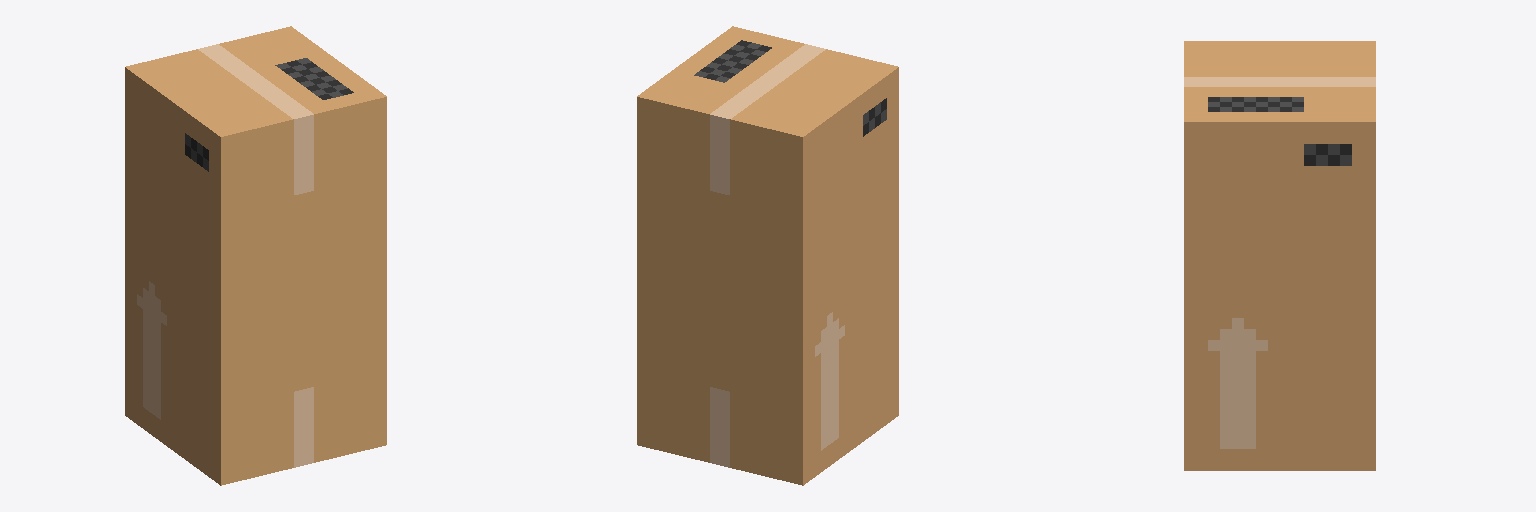
The picture shows the model from 3 angles: view 1: azimuth 30°, elevation 25°; view 2: azimuth 150°, elevation 25°; view 3: azimuth 270°, elevation 25°; orthographic projection.
Visible parts, largest first — view 1: cuboid; view 2: cuboid; view 3: cuboid.
Boxes of the visible parts, <box> form: cuboid: <box>125,26,386,485</box>; cuboid: <box>637,26,898,485</box>; cuboid: <box>1184,41,1375,470</box>.
Size of the model in its own units: 1 by 2 by 1.
Materials: 1 (1 with a texture image).